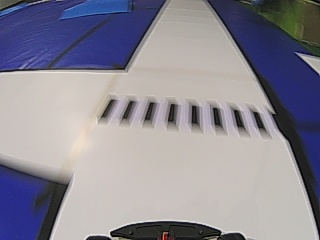CrossWalk: (98, 98, 268, 133)
